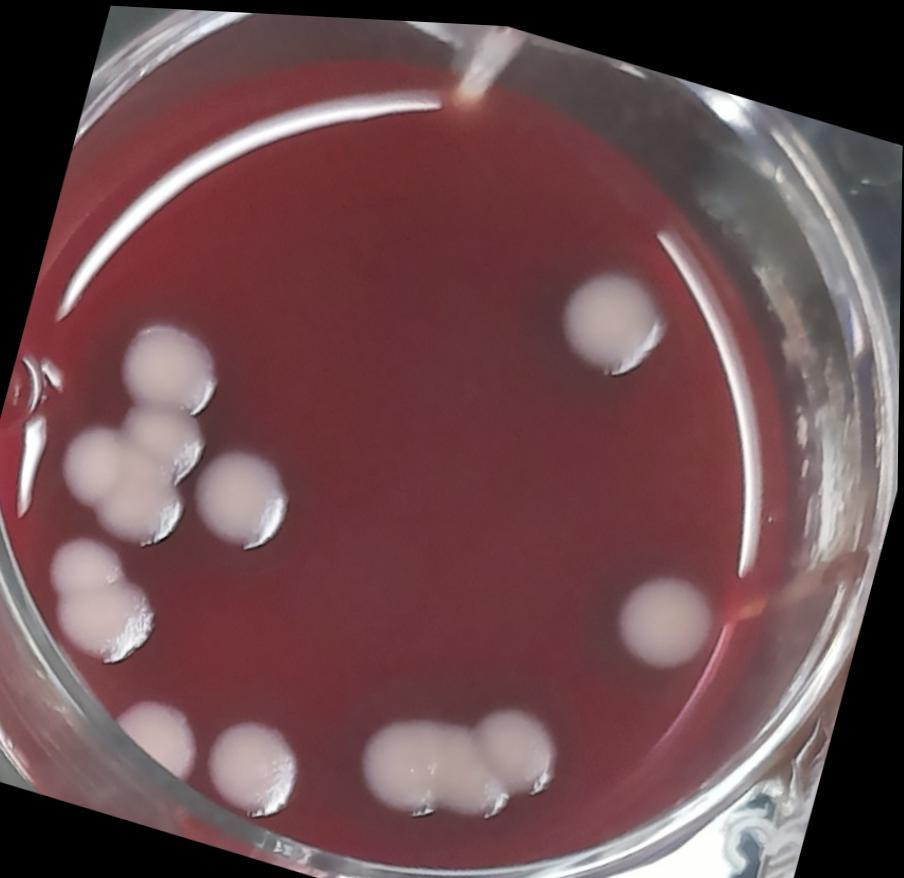bcereus: (334, 657, 582, 865), (40, 385, 229, 581), (529, 232, 695, 398), (26, 523, 183, 686), (592, 536, 737, 692), (171, 423, 317, 574), (188, 698, 320, 840), (103, 302, 239, 432), (95, 681, 218, 798)
